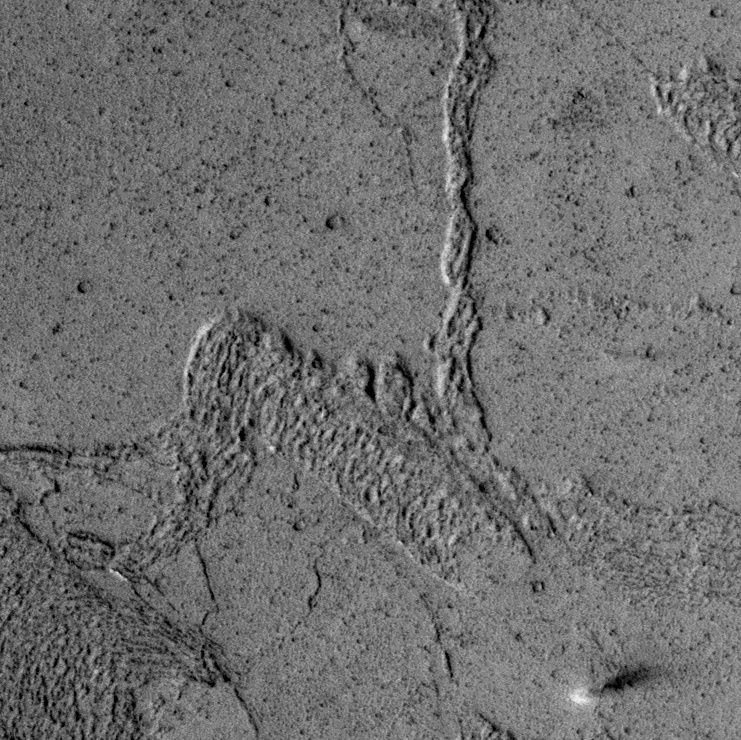dust_devil: (567, 664, 651, 707)
